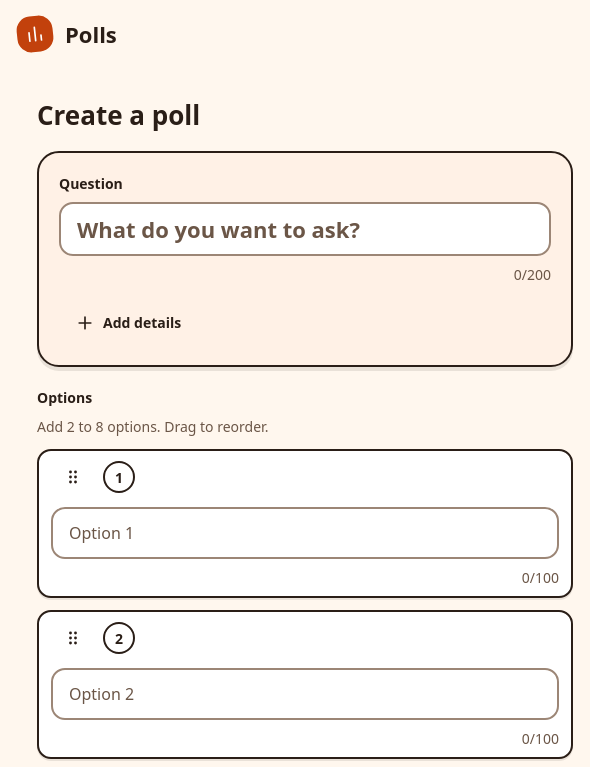
Test: CreatePollPage › Add details shows a focused 1000-character Details field; Remove details hides it
Click the button "Add details" at (128, 323), box [59,301,197,345]
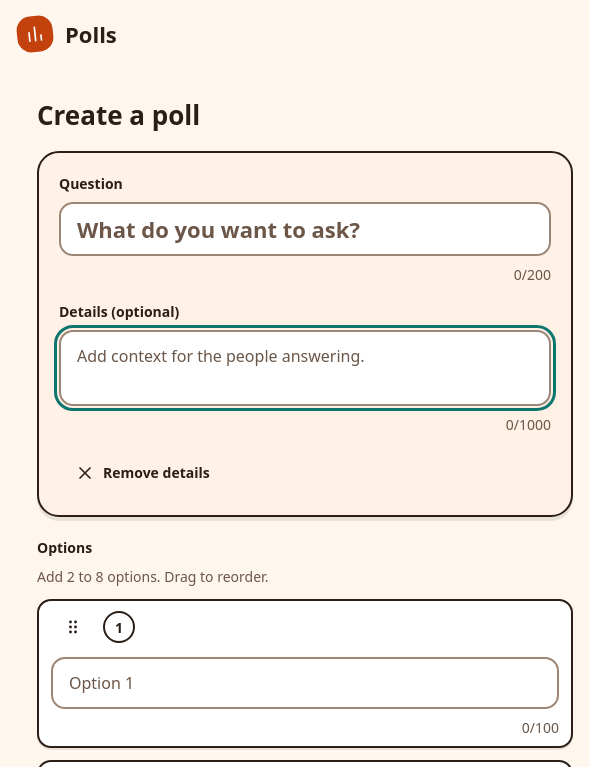
Expected: the text "0/1000" is shown, [506,414,551,435]
Click the button "Remove details" at (142, 473), box [59,451,226,495]
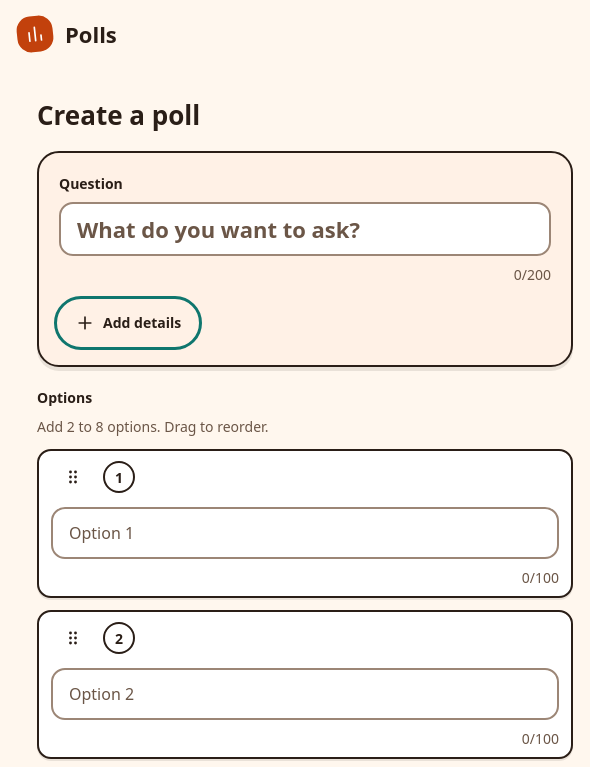
Expected: the label labelled "Details (optional)" is gone
